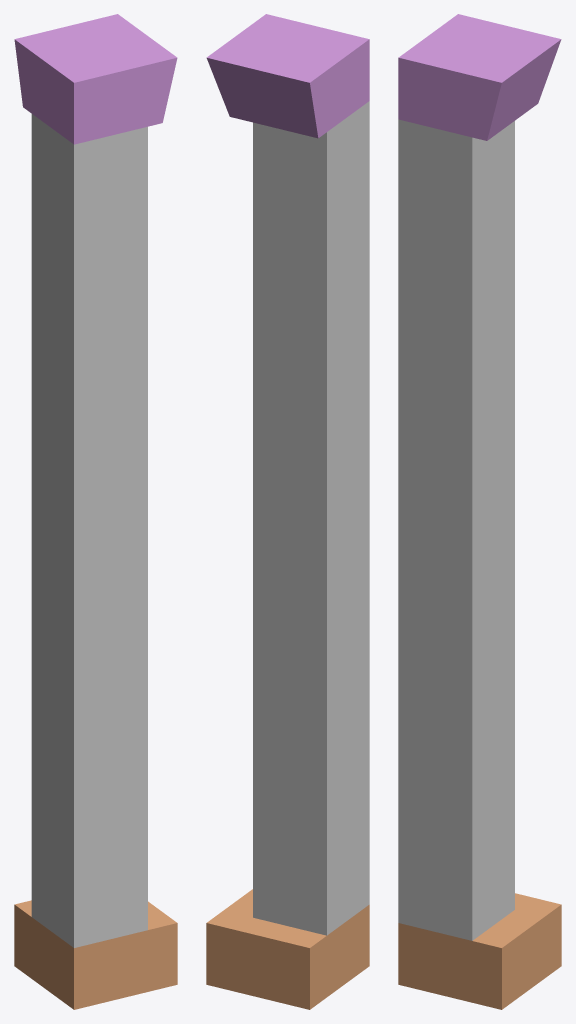
The model's file is Corner_wall_001.glb.
The picture shows the model from 3 angles, left to right: view 1: azimuth 30°, elevation 25°; view 2: azimuth 150°, elevation 25°; view 3: azimuth 330°, elevation 25°; orthographic projection.
Visible parts, largest first — view 1: Corner_wall.001; view 2: Corner_wall.001; view 3: Corner_wall.001.
Part boxes in pixels (box(x1,y1,x2,y2)): Corner_wall.001: box(14, 14, 177, 1009); Corner_wall.001: box(206, 14, 369, 1009); Corner_wall.001: box(398, 14, 561, 1009).
Bounding box in the file's own units: 0.35 × 3 × 0.35.
